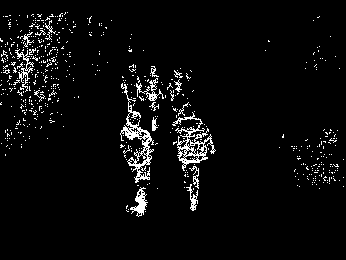person: (173, 103, 216, 211), (116, 110, 153, 218), (142, 64, 166, 113), (119, 62, 142, 112), (167, 64, 184, 105)
